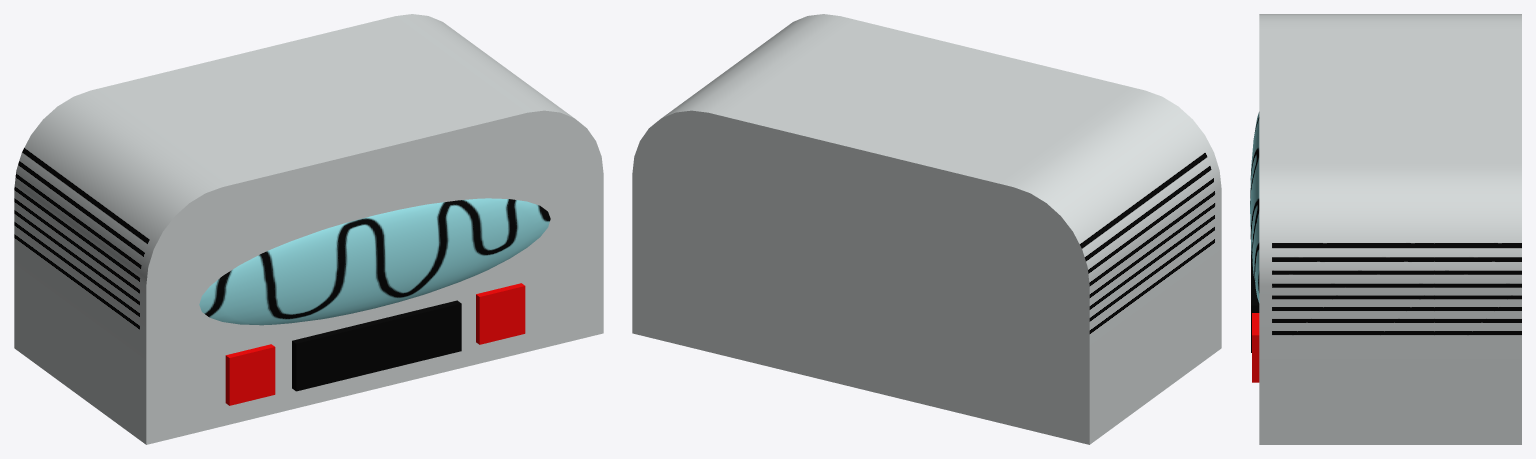
The model's file is osciloscopio.obj.
3 views of the same model, side by side, from view 1: azimuth 30°, elevation 25°; view 2: azimuth 150°, elevation 25°; view 3: azimuth 270°, elevation 25° (orthographic).
Visible parts, largest first — view 1: pCube1, pSphere1, pCube4, pCube2, pCube3; view 2: pCube1; view 3: pCube1, pSphere1, pCube3, pCube4.
Boxes of the visible parts, bbox=[...] form: pCube1: bbox=[14, 14, 603, 444]; pSphere1: bbox=[199, 198, 550, 325]; pCube4: bbox=[292, 300, 461, 391]; pCube2: bbox=[225, 344, 275, 405]; pCube3: bbox=[476, 283, 525, 344]; pCube1: bbox=[632, 14, 1221, 444]; pCube1: bbox=[1259, 14, 1521, 444]; pSphere1: bbox=[1250, 112, 1259, 302]; pCube3: bbox=[1252, 313, 1259, 382]; pCube4: bbox=[1251, 247, 1259, 352].
Bounding box in the file's own units: 2 × 1 × 1.04.
Materials: 6 (6 with a texture image).
